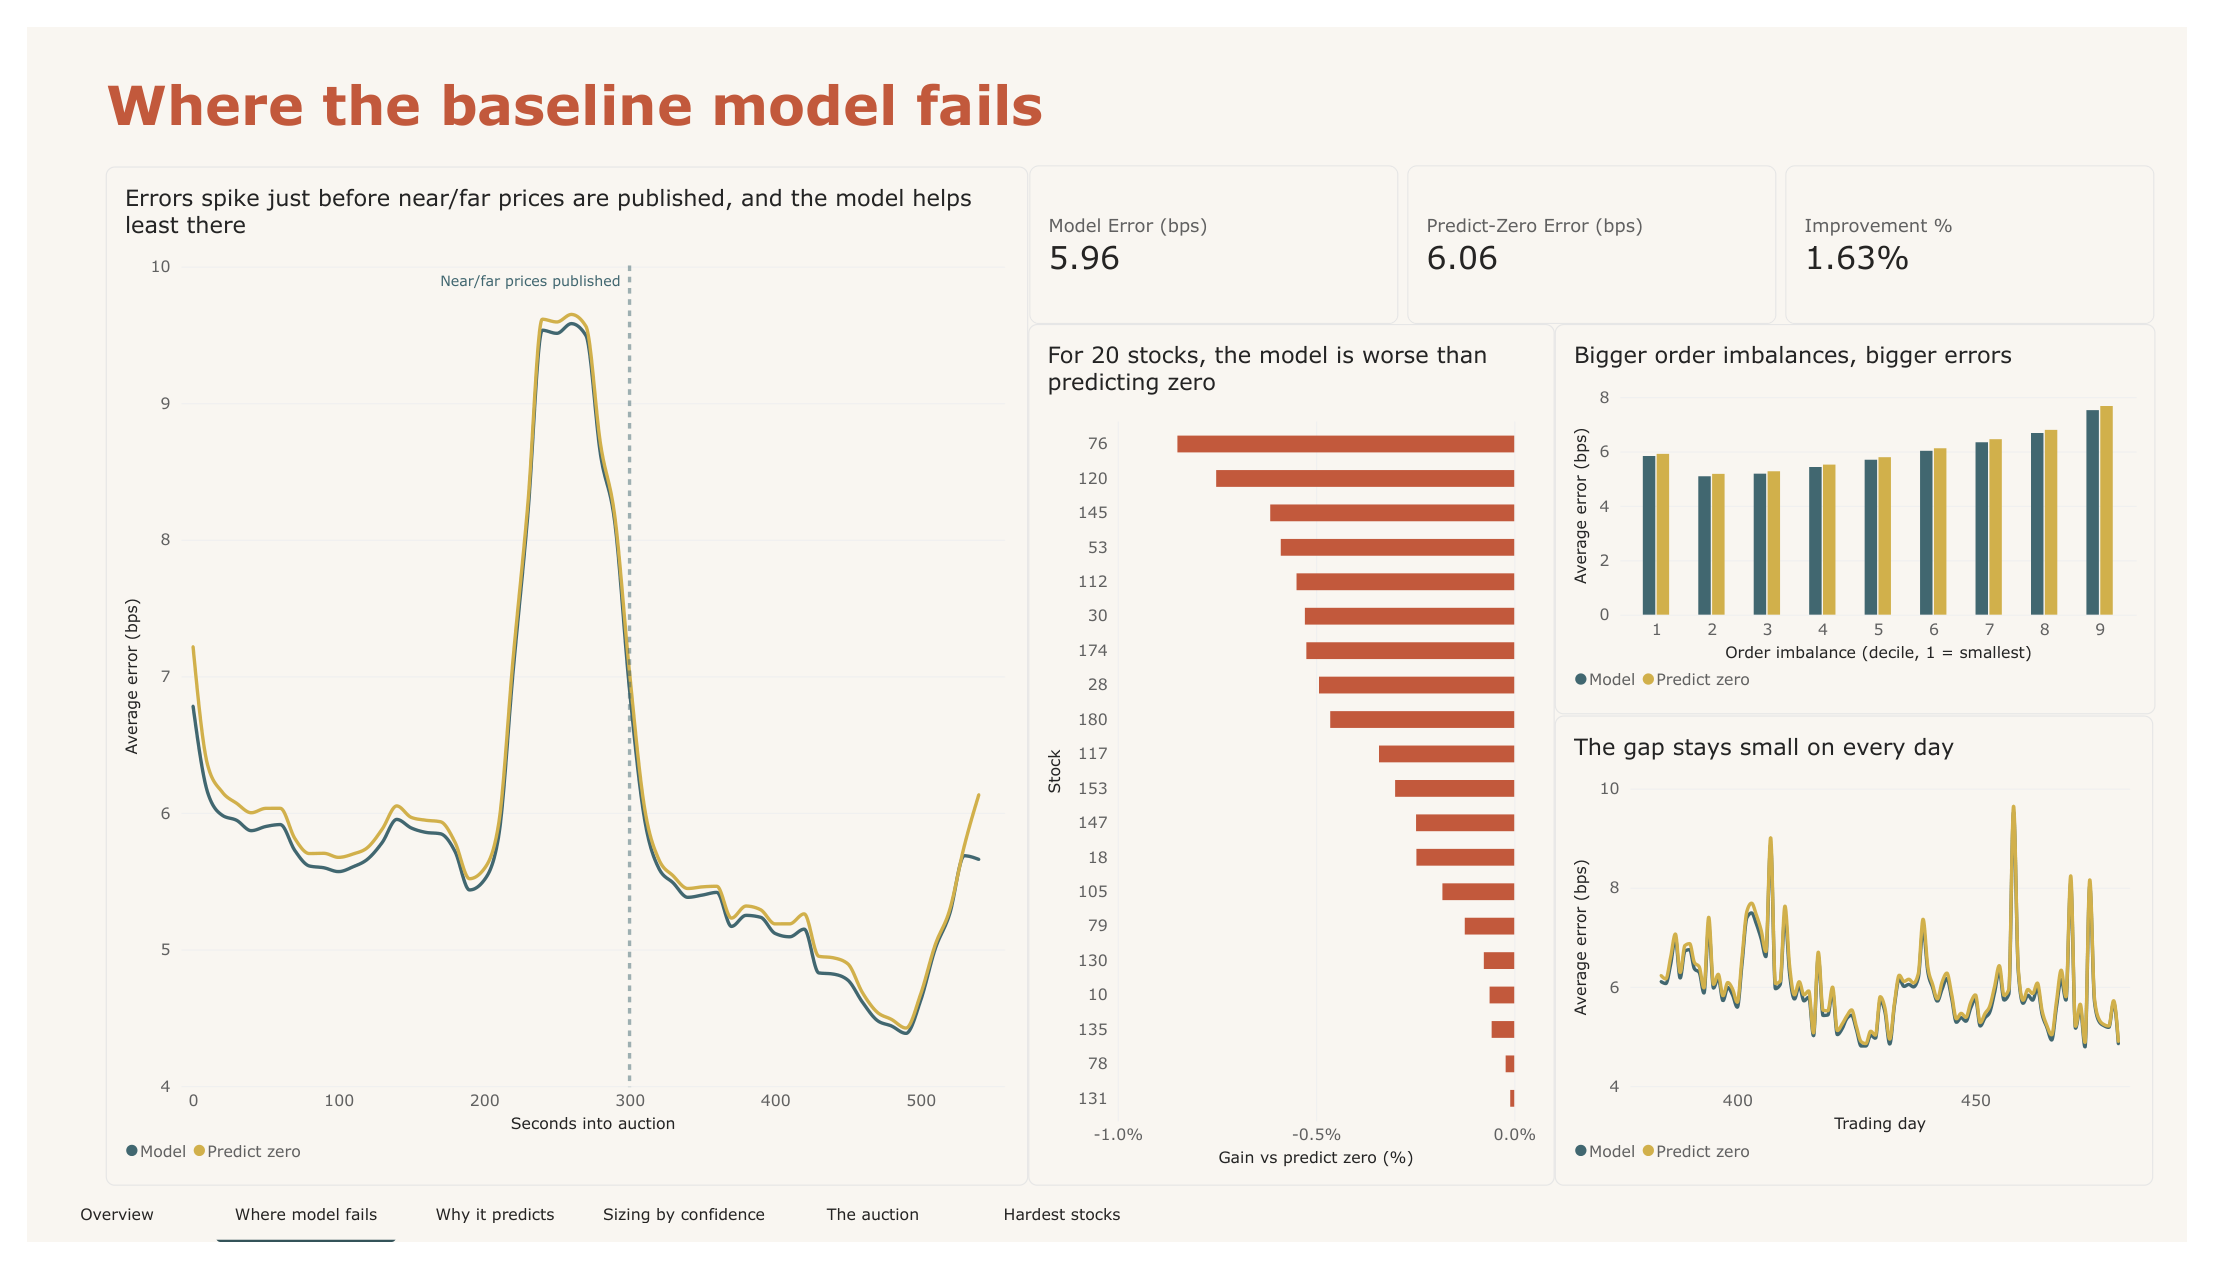

The dashboard page shown, as its layout file describes it:
{"tool":"powerbi","page":{"name":"Where model fails","canvas":[1920,1080],"ordinal":1},"visuals":[{"type":"cardVisual","fields":{"Data":["error_by_date.Model Error (bps)","error_by_date.Predict-Zero Error (bps)","error_by_date.Improvement %"]},"box":[890.6,122.6,1000,141.5],"z":0},{"type":"lineChart","title":"Errors spike just before near/far prices are published, and the model helps least there","fields":{"Category":["error_by_second.seconds_in_bucket"],"Y":["Avg(error_by_second.mae_model)","Avg(error_by_second.mae_naive)"]},"box":[70,124,820,906],"z":1000},{"type":"clusteredBarChart","title":"For 20 stocks, the model is worse than predicting zero","fields":{"Category":["error_by_stock.stock_id"],"Y":["Avg(error_by_stock.Gain vs Zero %)"]},"box":[890,264,468,766],"z":2000},{"type":"clusteredColumnChart","title":"Bigger order imbalances, bigger errors","fields":{"Category":["error_by_imbalance.imbalance_decile"],"Y":["Sum(error_by_imbalance.mae_model)","Sum(error_by_imbalance.mae_naive)"]},"box":[1358.5,264.2,534,347.2],"z":3000},{"type":"lineChart","title":"The gap stays small on every day","fields":{"Category":["error_by_date.date_id"],"Y":["Avg(error_by_date.mae_model)","Avg(error_by_date.mae_naive)"]},"box":[1358,612,532,418],"z":4000},{"type":"textbox","box":[70,39.1,1412,84.4],"z":5000},{"type":"pageNavigator","box":[0,1030,1000,50],"z":5001}]}

Visuals, with their boxes in screenshot pixels (x1, y1, x2, y2), scaled from the page's 1920x1080 canvas onto the 2214x1269 screenshot:
cardVisual - error_by_date.Model Error (bps) x error_by_date.Predict-Zero Error (bps): [left=1027, top=144, right=2180, bottom=310]
"Errors spike just before near/far prices are published, and the model helps least there" lineChart: [left=81, top=146, right=1026, bottom=1210]
"For 20 stocks, the model is worse than predicting zero" clusteredBarChart: [left=1026, top=310, right=1566, bottom=1210]
"Bigger order imbalances, bigger errors" clusteredColumnChart: [left=1567, top=310, right=2182, bottom=718]
"The gap stays small on every day" lineChart: [left=1566, top=719, right=2179, bottom=1210]
textbox: [left=81, top=46, right=1709, bottom=145]
pageNavigator: [left=0, top=1210, right=1153, bottom=1268]
